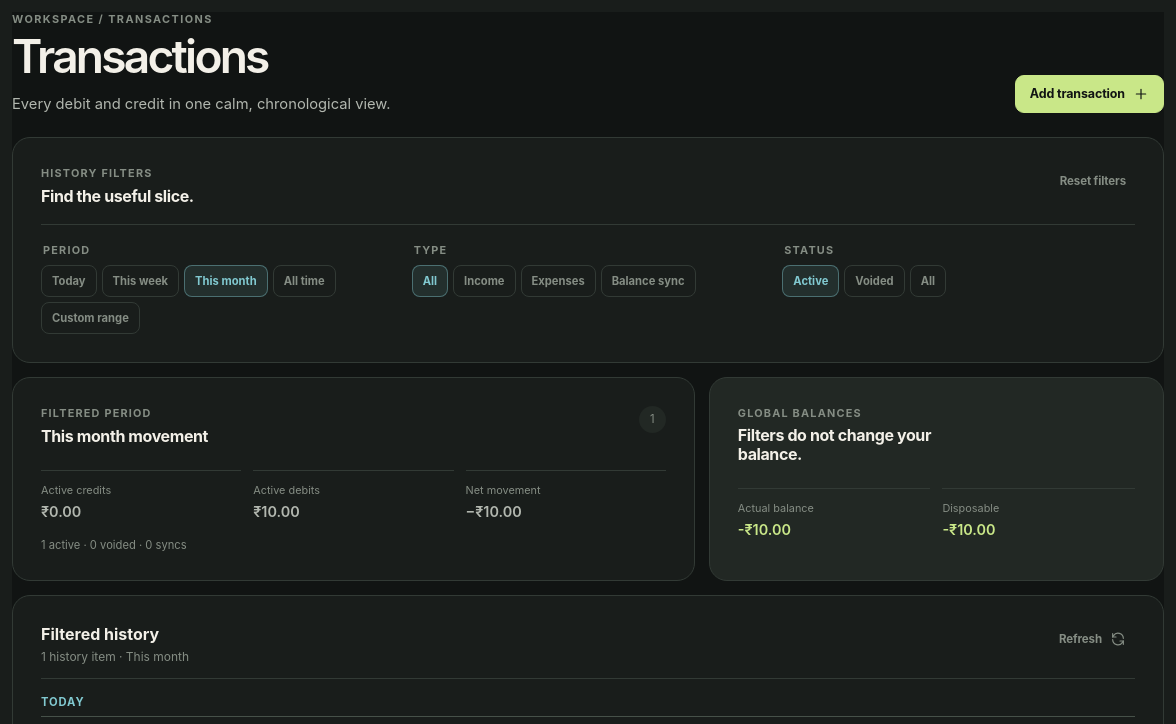
it: transaction history filters › rejects an inverted custom range without requesting a new history projection
Click the button "Custom range": x=90, y=318 41,302 -> 140,334
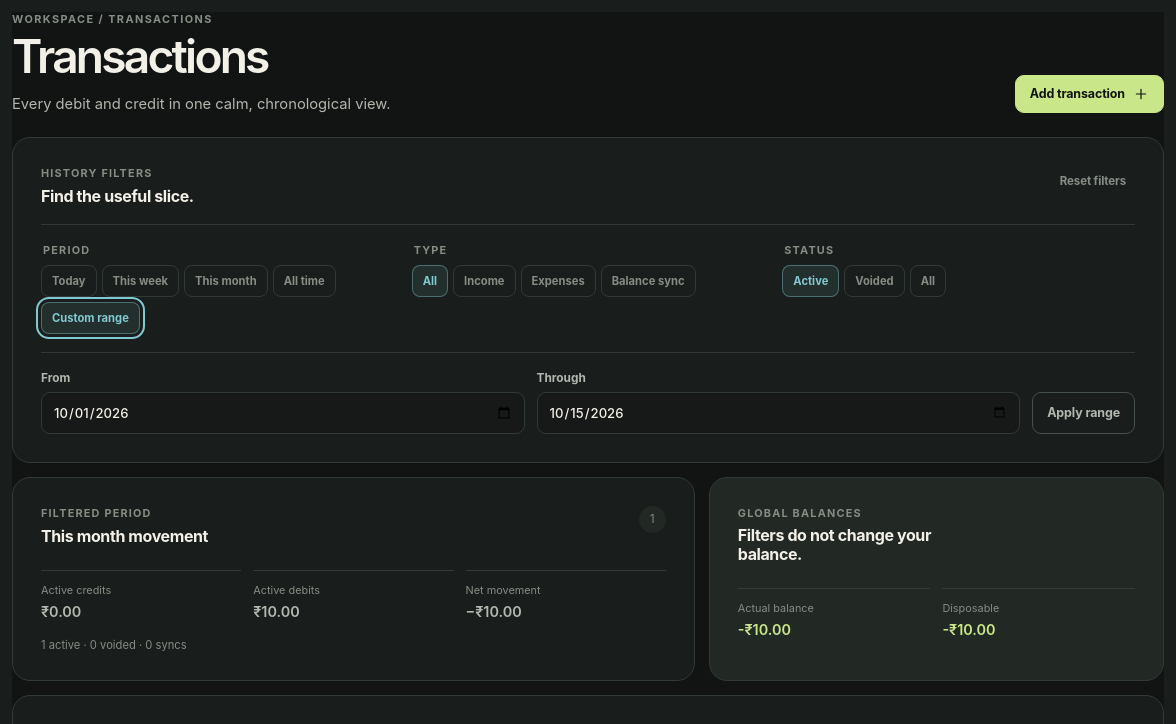
In the date field named "Custom range start": x=283, y=413 41,392 -> 525,434, type "2026-09-02"
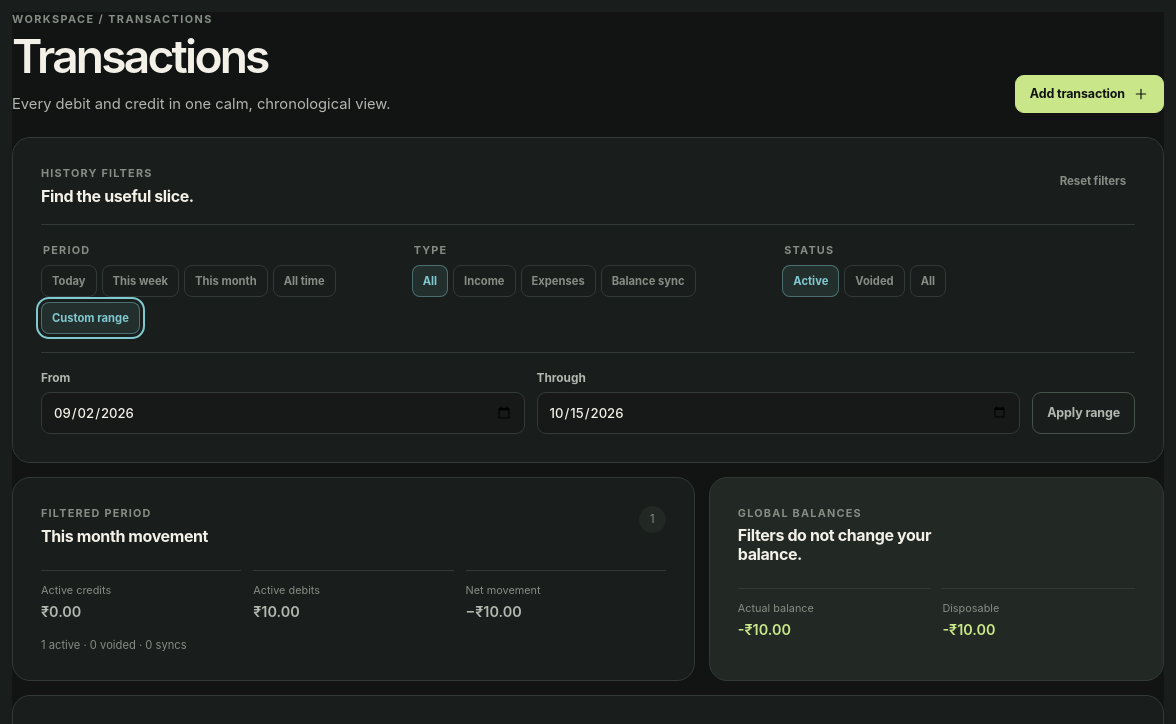
In the date field named "Custom range end": x=778, y=413 537,392 -> 1020,434, type "2026-09-01"
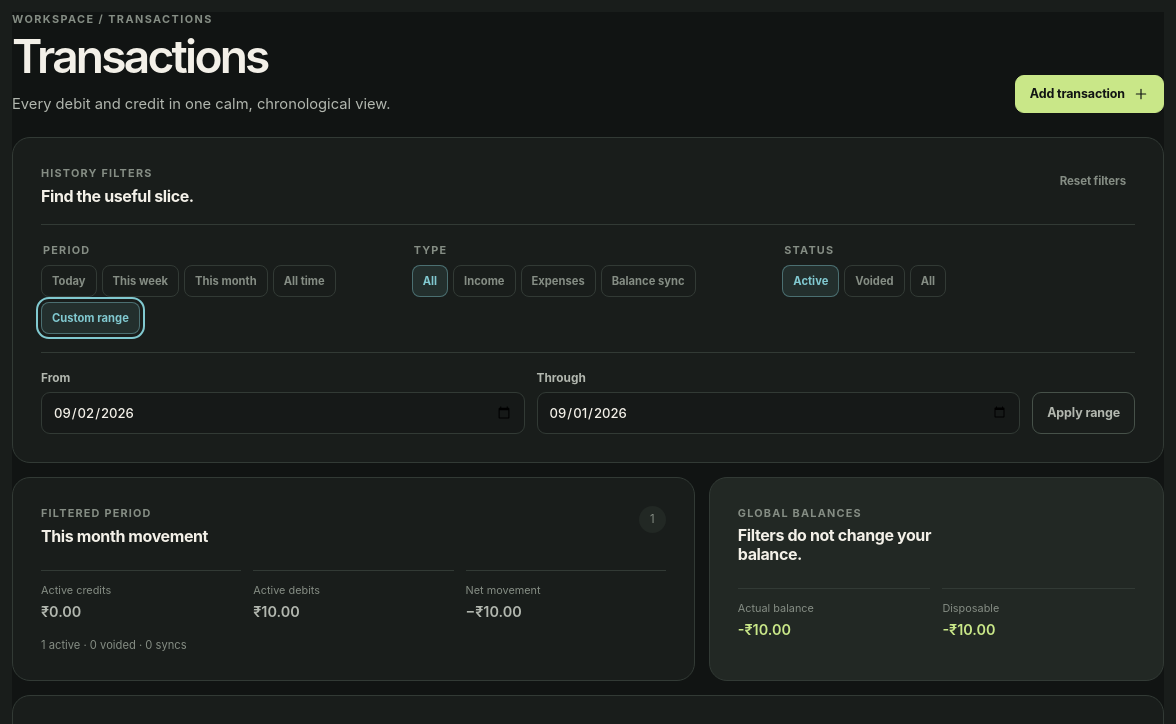
Click the button "Apply range": x=1084, y=413 1032,392 -> 1135,434
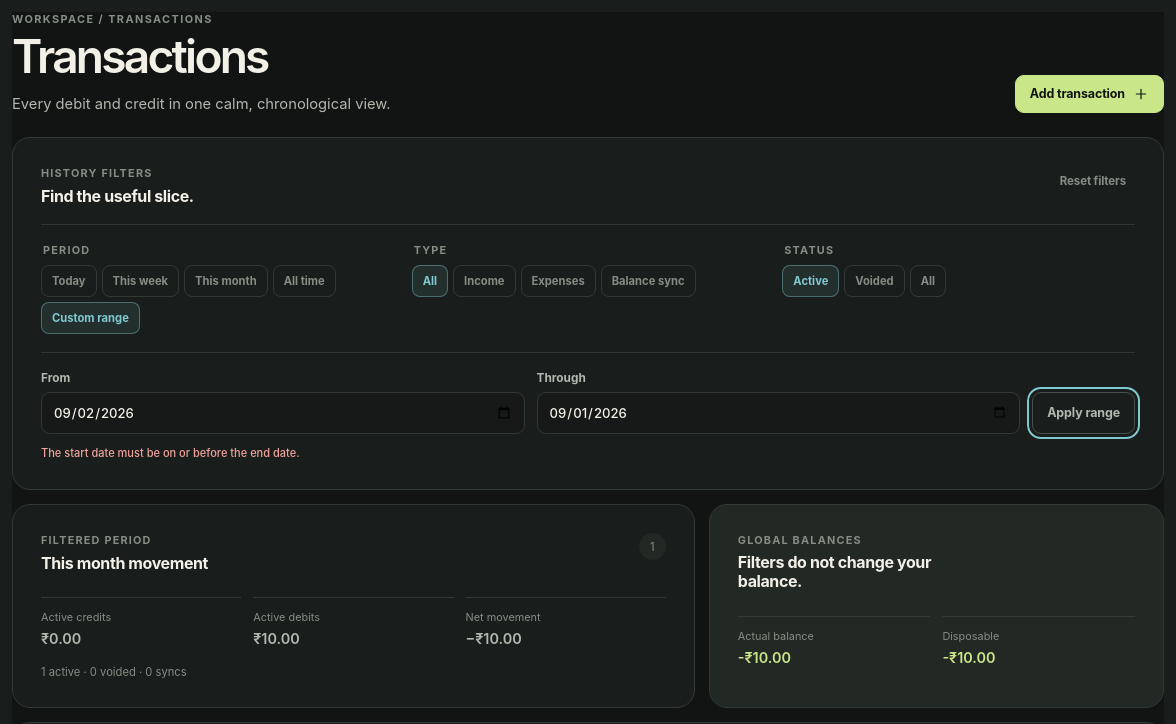
Check: the message shows "start date must be on or before", box 41,446 -> 300,460
